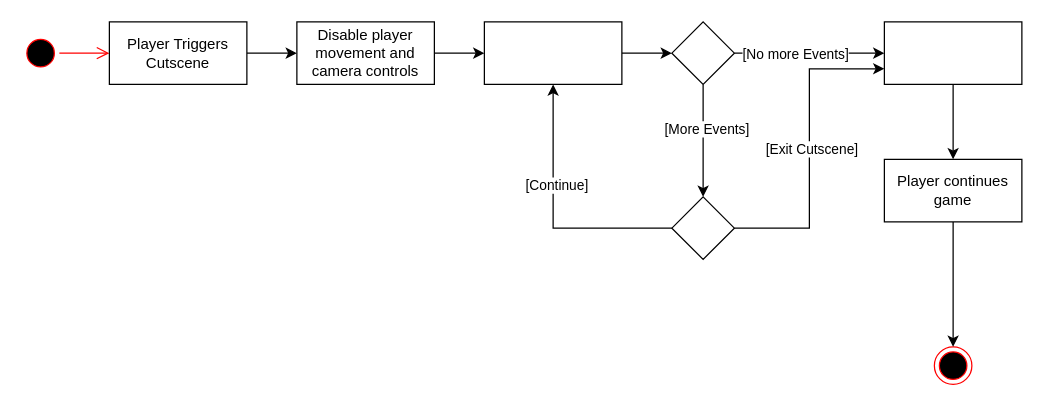
The diagram is 1044 pixels wide and 406 high, and some of its shapes have lost their labels. The box of each missing label's shape, as (x1, y1, x2, y2) in pixels:
Enable player movement and camera controls: (883, 21, 1022, 84)
Perform Cutscene Event: (483, 21, 622, 84)
